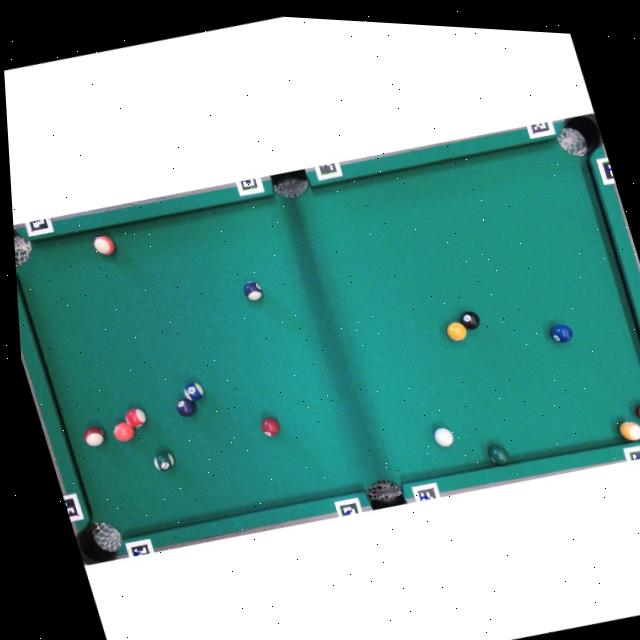cue ball: (431, 424, 456, 449)
other: (485, 440, 513, 469), (80, 423, 108, 449), (90, 232, 117, 258), (110, 418, 137, 444), (548, 320, 575, 346), (258, 413, 283, 438), (123, 404, 148, 429), (617, 417, 640, 444), (444, 319, 469, 343), (173, 395, 198, 419), (151, 448, 176, 472), (181, 379, 206, 403), (457, 308, 482, 332), (241, 279, 264, 303), (633, 398, 640, 427)
